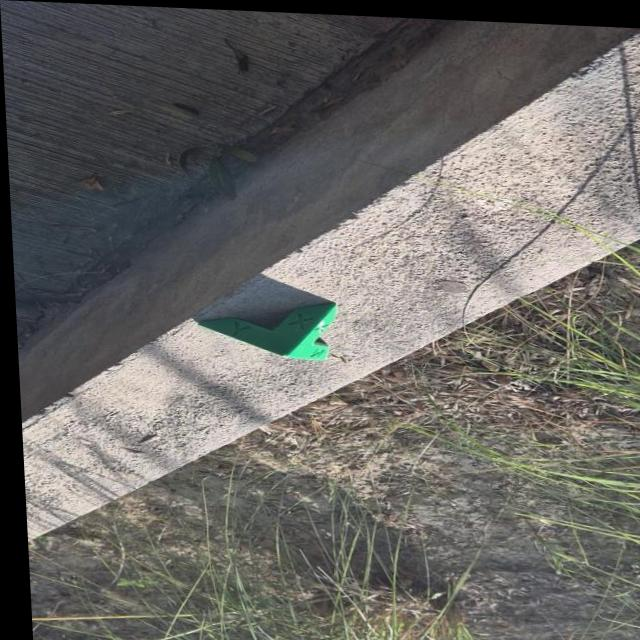eje: (194, 295, 344, 363)
